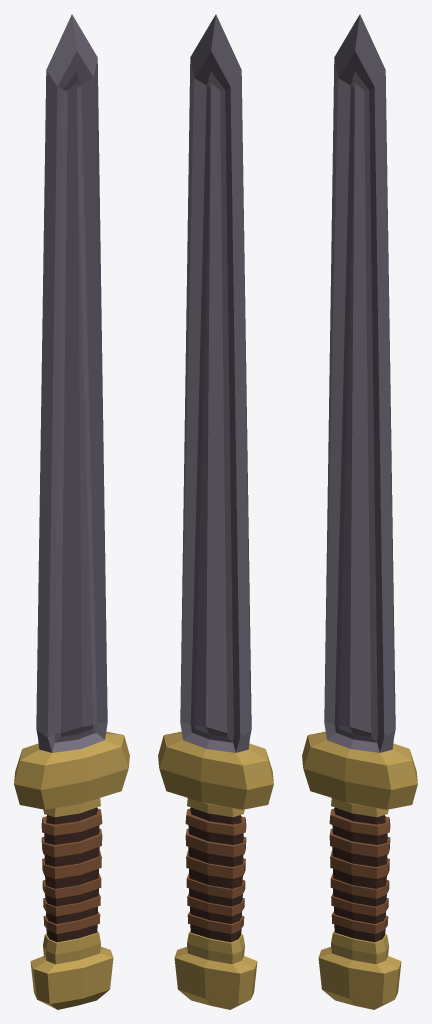
Rendered from SwordModel.fbx.
3 renders of one model, left to right at view 1: azimuth 30°, elevation 25°; view 2: azimuth 150°, elevation 25°; view 3: azimuth 330°, elevation 25°, orthographic.
Parts seen in each view (by area): view 1: Cube; view 2: Cube; view 3: Cube.
Part boxes in pixels (x1,y1,x2,y2): Cube: (14,14,129,1009); Cube: (158,14,273,1009); Cube: (302,14,417,1009).
Bounding box in the file's own units: 242 × 1970 × 112.
